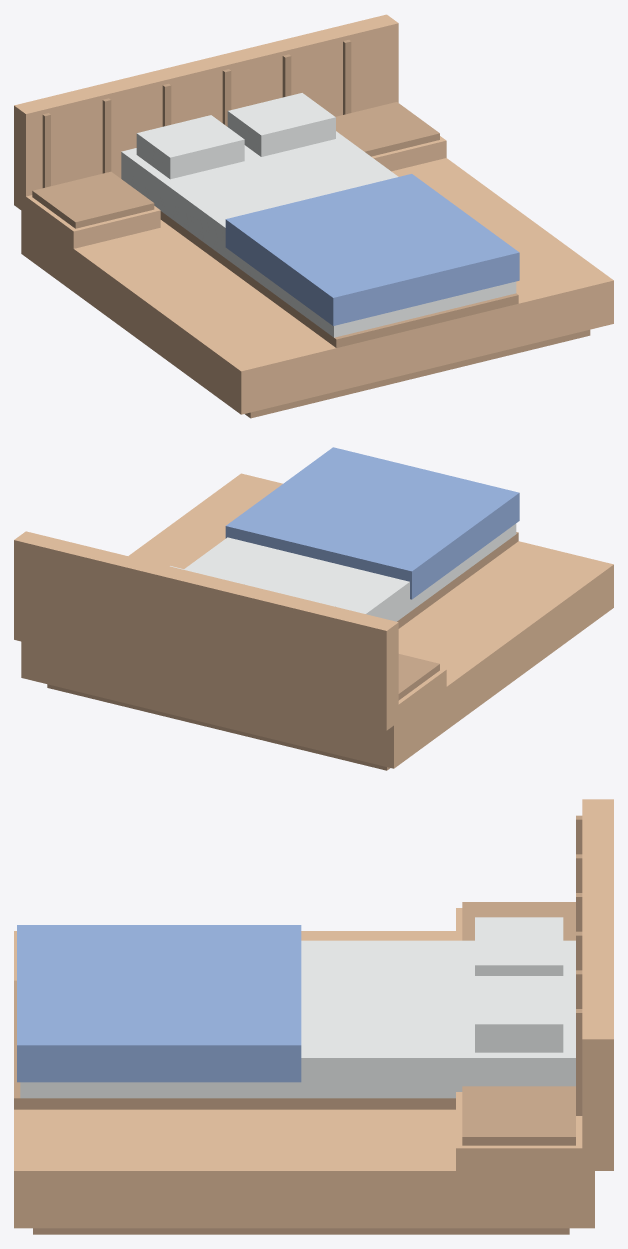
The model's file is bedPlatformLow.glb.
3 views of the same model, one above another, from view 1: azimuth 30°, elevation 25°; view 2: azimuth 150°, elevation 25°; view 3: azimuth 270°, elevation 25° (orthographic). The views are drawn at different scales.
Visible parts, largest first — view 1: bedPlatformLow; view 2: bedPlatformLow; view 3: bedPlatformLow.
Part boxes in pixels (bbox=[...]): bedPlatformLow: bbox=[14, 14, 613, 418]; bedPlatformLow: bbox=[14, 447, 613, 770]; bedPlatformLow: bbox=[14, 799, 613, 1234].
Size of the model in its own units: 0.9 by 0.36 by 0.95.
